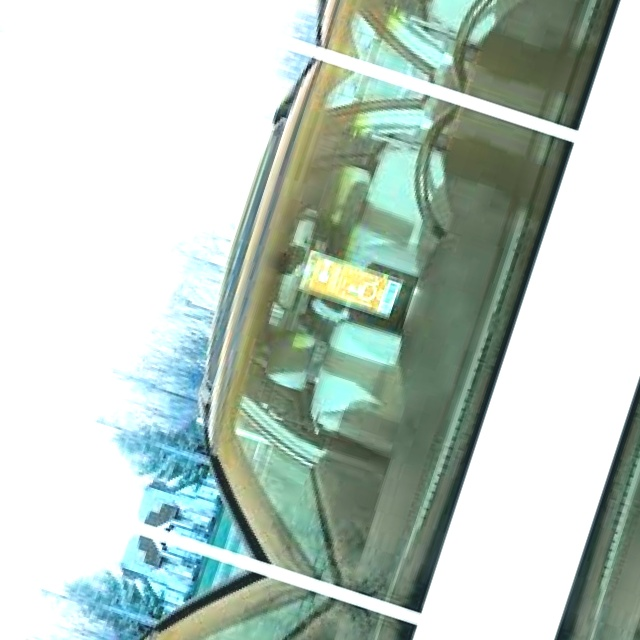ISA: (343, 273, 382, 304)
